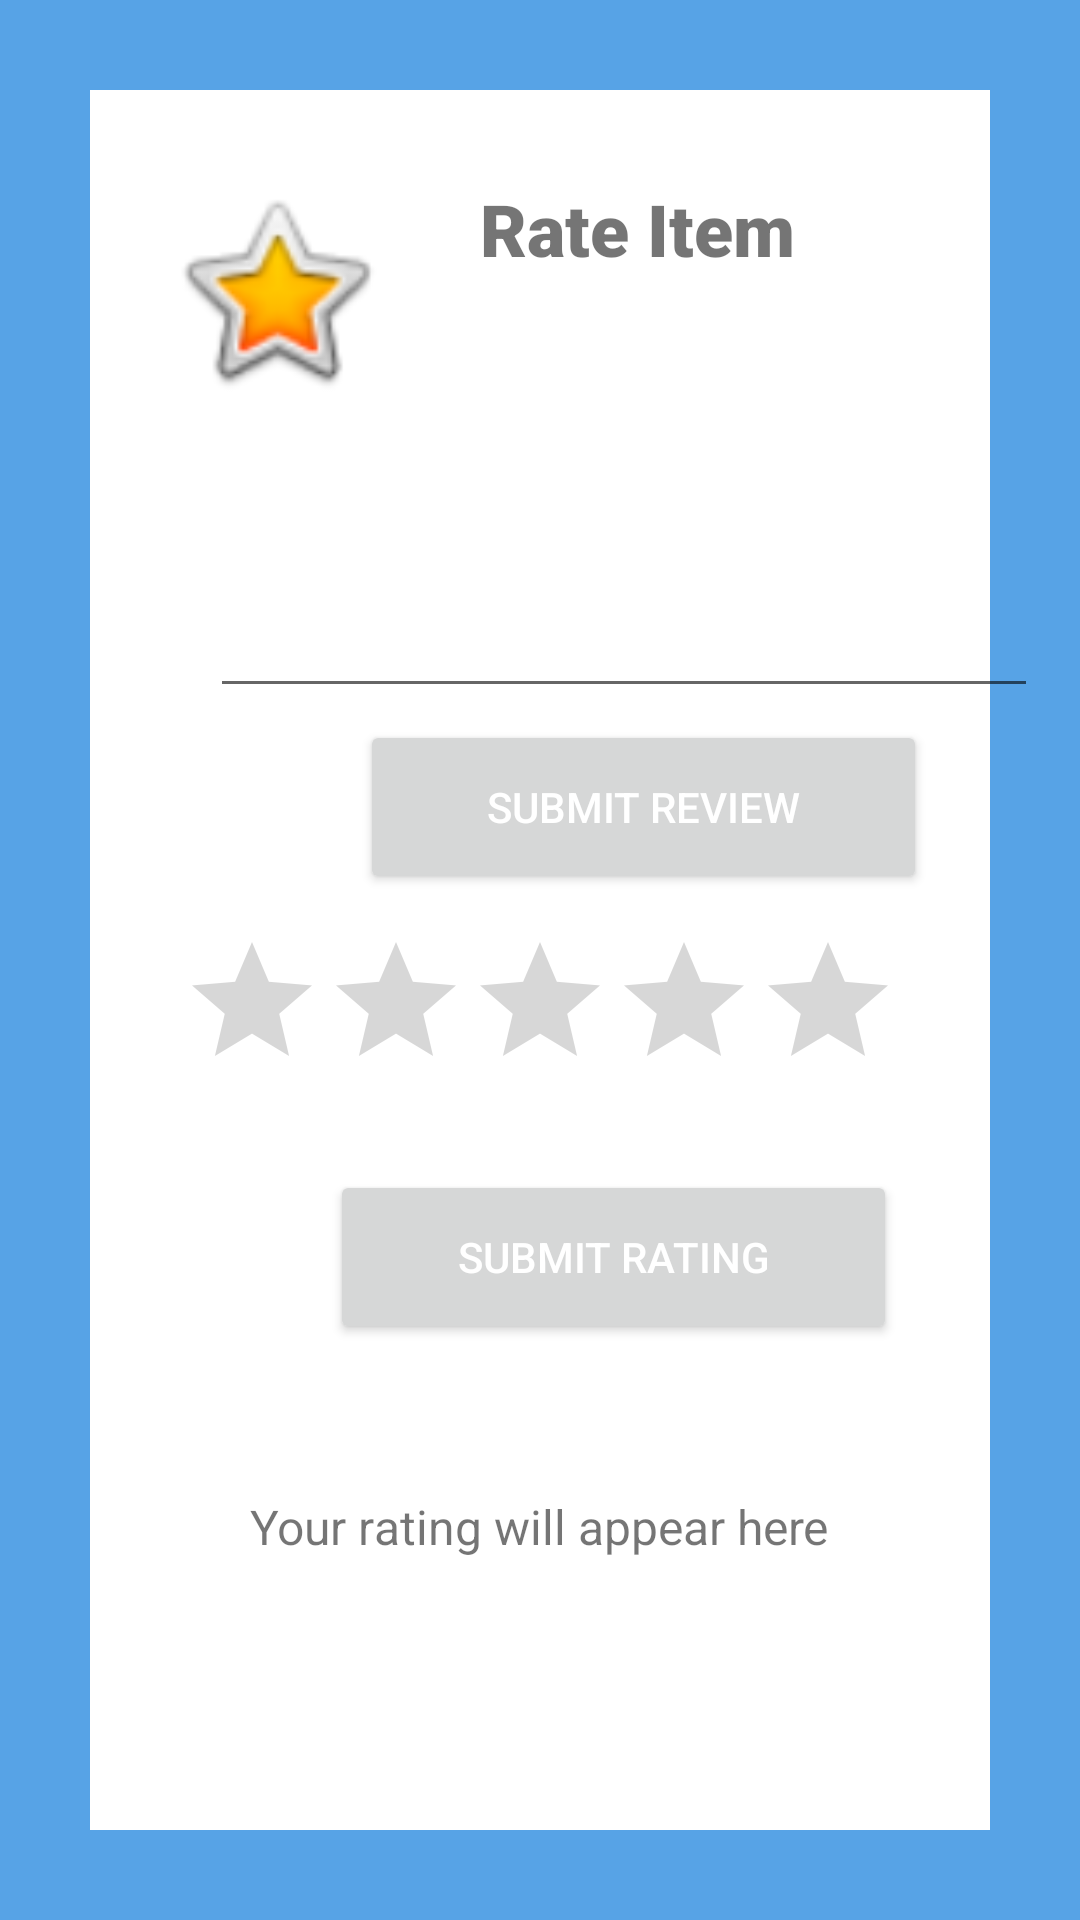

Icon bounding boxes for this 1080px×1920px phone screenshot, format box(x1, y1, x2, y2):
star on: box(185, 202, 371, 383)
